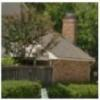chimneys: (62, 11, 77, 45)
